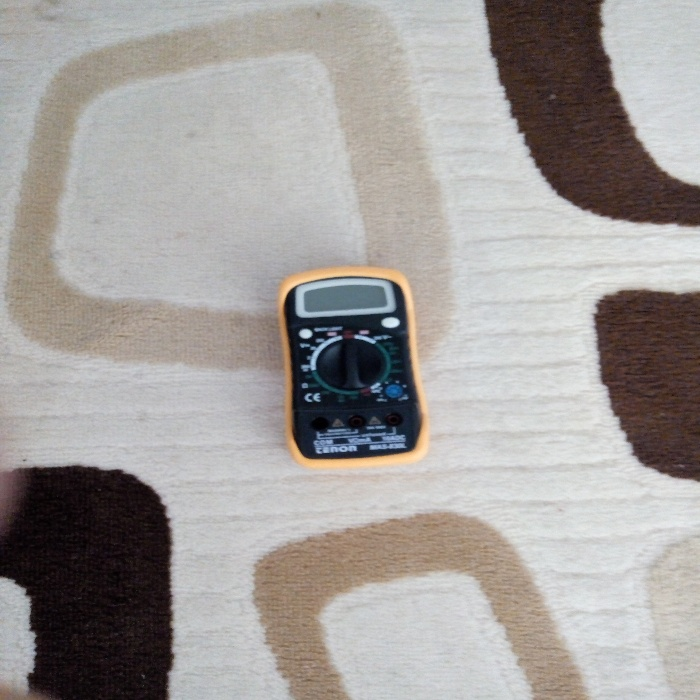multimetre: (271, 249, 451, 465)
